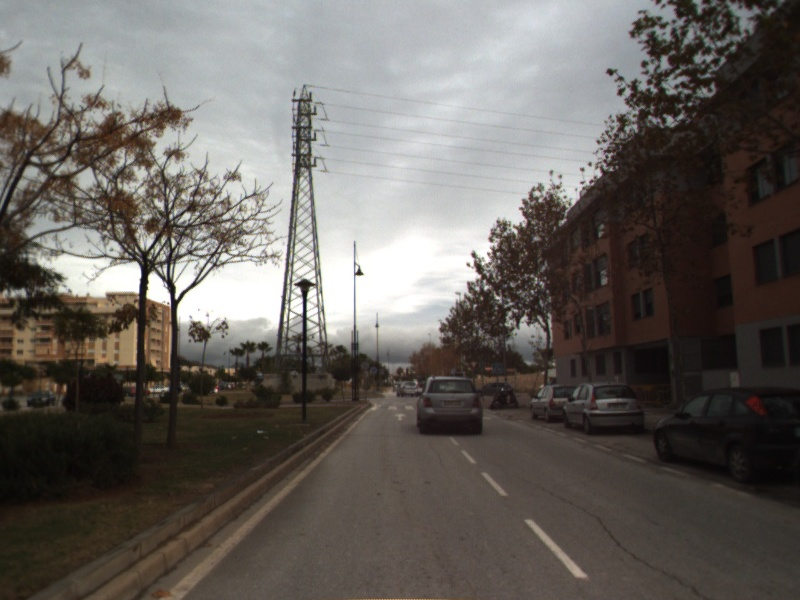STRAIGHT: (392, 411, 409, 422)
